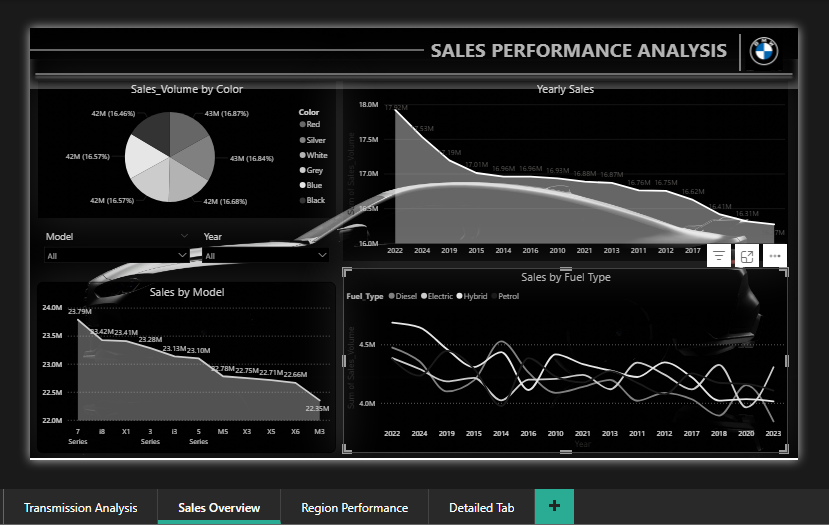

This screenshot's page, from the dashboard's own definition file:
{"tool":"powerbi","page":{"name":"Sales Overview","canvas":[1280,720],"ordinal":1},"visuals":[{"type":"pieChart","title":"Sales_Volume by Color","fields":{"Y":["Sum(BMW sales data (2010-2024).Sales_Volume)"],"Category":["BMW sales data (2010-2024).Color"]},"box":[13.3,88.3,496.7,228.3],"z":0},{"type":"areaChart","title":"Yearly Sales","fields":{"Category":["BMW sales data (2010-2024).Year"],"Y":["Sum(BMW sales data (2010-2024).Sales_Volume)"]},"box":[521.7,88.3,741.7,300],"z":1000},{"type":"lineChart","title":"Sales by Fuel Type","fields":{"Category":["BMW sales data (2010-2024).Year"],"Y":["Sum(BMW sales data (2010-2024).Sales_Volume)"],"Series":["BMW sales data (2010-2024).Fuel_Type"]},"box":[521.7,400,741.7,308.3],"z":2000},{"type":"textbox","box":[0,0,1166.7,71.7],"z":3000},{"type":"shape","box":[0,51.4,1279.8,50],"z":4000},{"type":"shape","box":[1128.3,10,110,61.7],"z":5000},{"type":"image","box":[1183.3,10,80,61.7],"z":6000},{"type":"shape","box":[0,11.7,656.7,50],"z":7000},{"type":"areaChart","title":"Sales by Model","fields":{"Y":["Sum(BMW sales data (2010-2024).Sales_Volume)"],"Category":["BMW sales data (2010-2024).Model"]},"box":[11.7,423.3,498.3,285],"z":8000},{"type":"slicer","title":"Sales by Region","fields":{"Values":["BMW sales data (2010-2024).Model"]},"box":[13.3,331.7,263.3,86.7],"z":9000},{"type":"slicer","title":"Sales by Region","fields":{"Values":["BMW sales data (2010-2024).Year"]},"box":[276.7,331.7,233.3,85],"z":10000}]}

Visuals, with their boxes on the page's 1280x720 design canvas (x1, y1, x2, y2). These are canvas units, not pixel positions in the 829x525 screenshot, which may show the page scaled, cropped or inside an application window:
"Sales_Volume by Color" pieChart: {"left": 13, "top": 88, "right": 510, "bottom": 317}
"Yearly Sales" areaChart: {"left": 522, "top": 88, "right": 1263, "bottom": 388}
"Sales by Fuel Type" lineChart: {"left": 522, "top": 400, "right": 1263, "bottom": 708}
textbox: {"left": 0, "top": 0, "right": 1167, "bottom": 72}
shape: {"left": 0, "top": 51, "right": 1280, "bottom": 101}
shape: {"left": 1128, "top": 10, "right": 1238, "bottom": 72}
image: {"left": 1183, "top": 10, "right": 1263, "bottom": 72}
shape: {"left": 0, "top": 12, "right": 657, "bottom": 62}
"Sales by Model" areaChart: {"left": 12, "top": 423, "right": 510, "bottom": 708}
"Sales by Region" slicer: {"left": 13, "top": 332, "right": 277, "bottom": 418}
"Sales by Region" slicer: {"left": 277, "top": 332, "right": 510, "bottom": 417}
